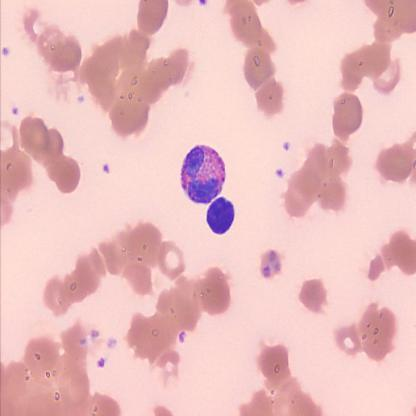Eosinophil: (180, 144, 226, 204)
